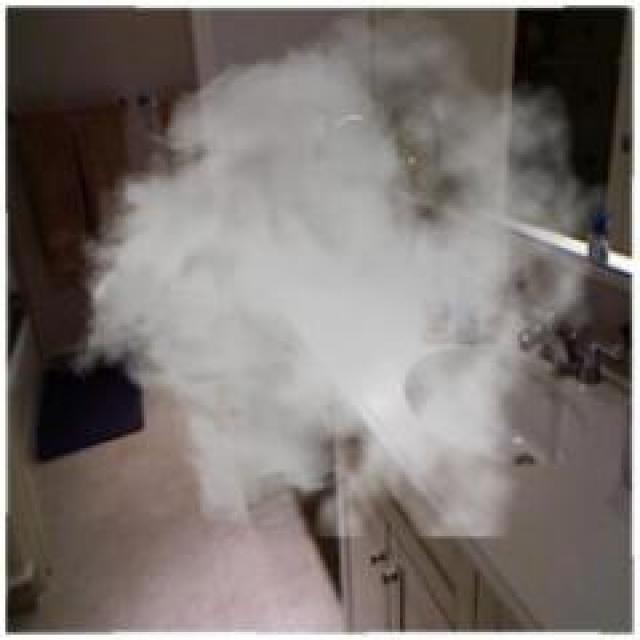Smoke: (65, 1, 612, 538)
